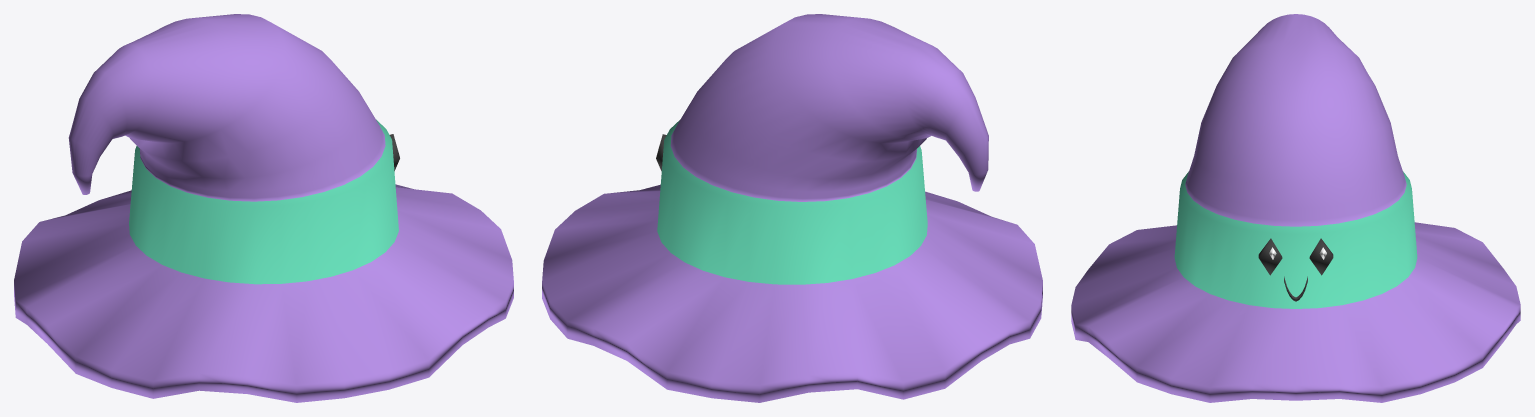
3 views of the same model, side by side, from view 1: azimuth 30°, elevation 25°; view 2: azimuth 150°, elevation 25°; view 3: azimuth 270°, elevation 25° (orthographic). The views are drawn at different scales.
Visible parts, largest first — view 1: Cylinder; view 2: Cylinder; view 3: Cylinder.
Boxes of the visible parts, box(x1,y1,x2,y2) form: Cylinder: box(14, 14, 513, 402); Cylinder: box(542, 14, 1042, 402); Cylinder: box(1071, 14, 1520, 402).
Bounding box in the file's own units: 6.34 × 4.08 × 6.34.
Materials: 1 (1 with a texture image).
